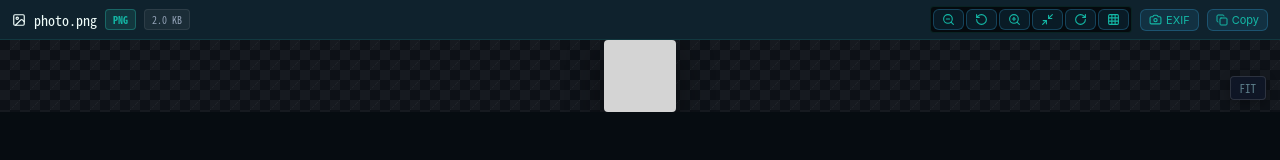
it: ImagePreview component › toggles EXIF metadata drawer when available
This screenshot has width=1280, height=160.
Click the button "EXIF".
click(1169, 20)  # box left=1140, top=8, right=1199, bottom=30
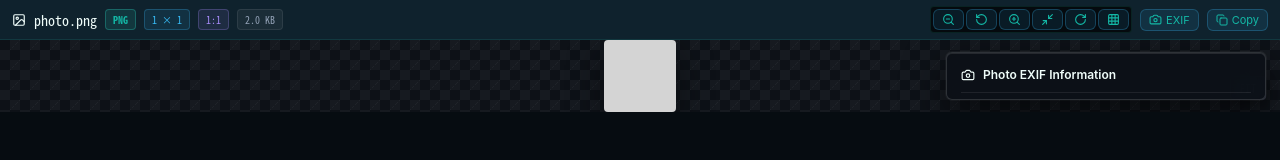
Expected: the element with test id "image-exif-card" is shown, left=946, top=52, right=1266, bottom=100
